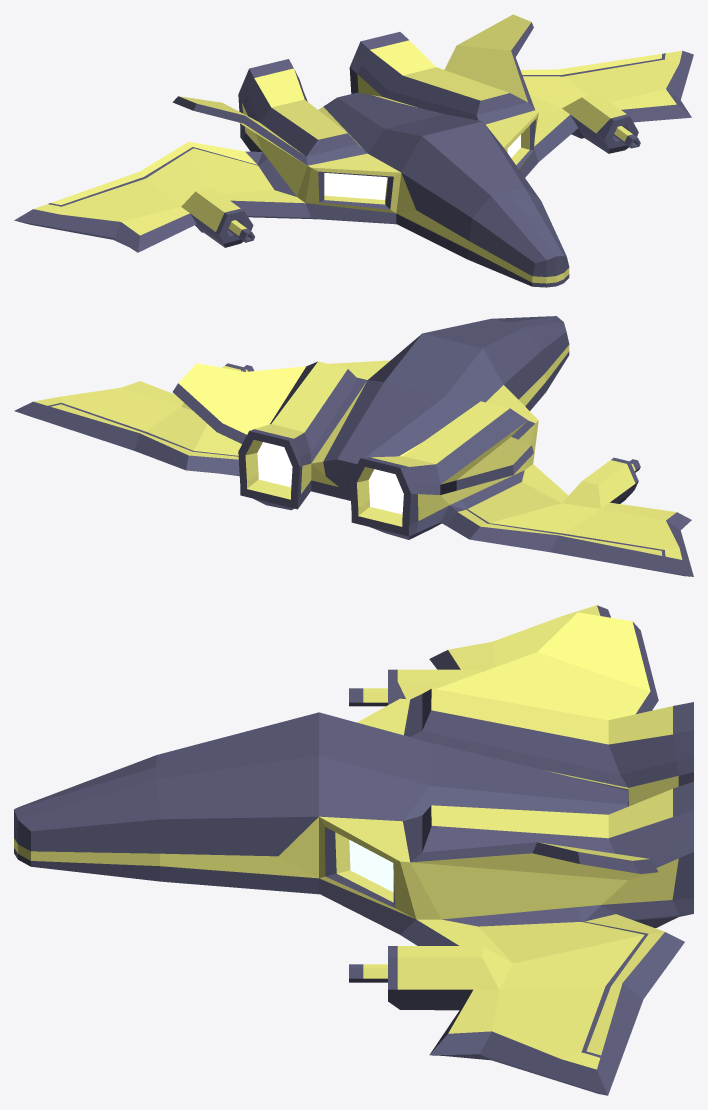
Rendered from SpaceShip.fbx.
The picture shows the model from 3 angles, top to bottom: view 1: azimuth 30°, elevation 25°; view 2: azimuth 150°, elevation 25°; view 3: azimuth 270°, elevation 25°; orthographic projection. The views are drawn at different scales.
Parts seen in each view (by area): view 1: Spaceship; view 2: Spaceship; view 3: Spaceship.
Boxes of the visible parts, x1,y1,x2,y2 form: Spaceship: (14, 14, 693, 287); Spaceship: (14, 316, 693, 576); Spaceship: (14, 605, 693, 1095).
Size of the model in its own units: 831 by 115 by 491.
